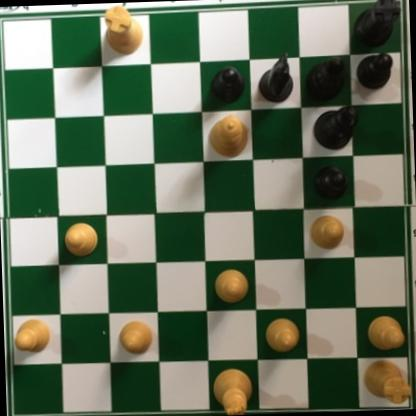black-bishop: (307, 52, 347, 102)
black-king: (310, 104, 360, 151)
black-knight: (256, 51, 296, 103)
black-pawn: (355, 51, 394, 91), (208, 66, 244, 105), (312, 165, 348, 202)
black-rook: (349, 0, 399, 50)
white-king: (206, 365, 254, 416)
white-pawn: (115, 316, 155, 358), (365, 314, 407, 354), (263, 315, 303, 355), (12, 315, 53, 352), (308, 213, 347, 251), (213, 267, 250, 307), (62, 222, 100, 258)
white-queen: (206, 113, 249, 160)
white-rook: (359, 354, 412, 406), (98, 4, 143, 59)
